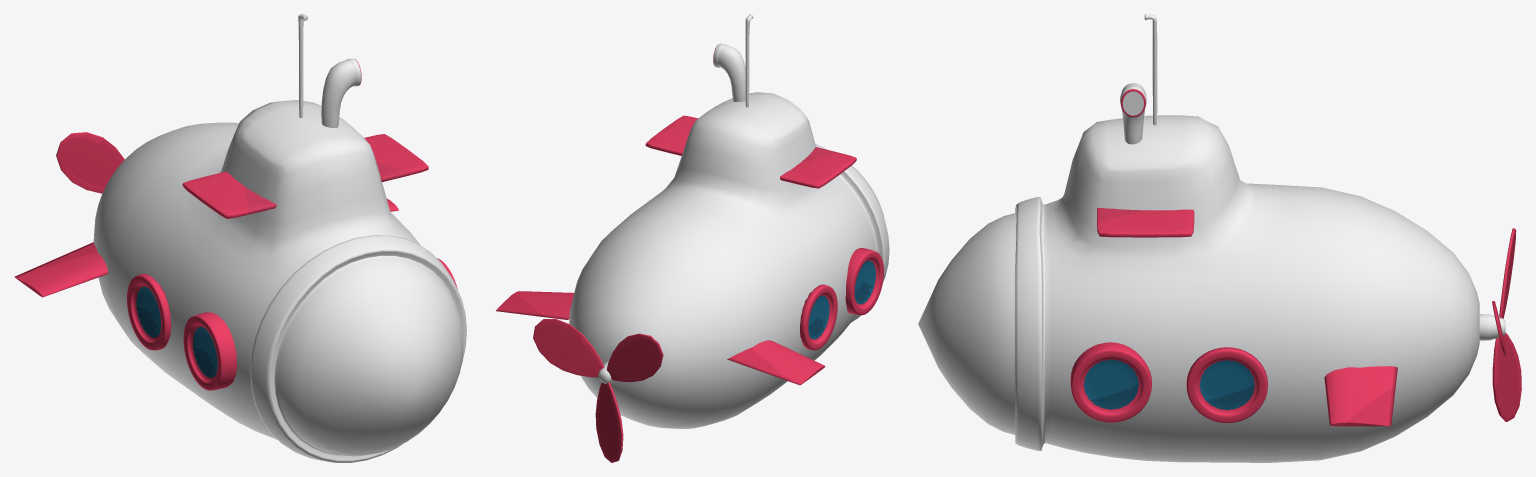
The model's file is navysubmarine@idle.fbx.
3 renders of one model, left to right at view 1: azimuth 30°, elevation 25°; view 2: azimuth 150°, elevation 25°; view 3: azimuth 270°, elevation 25°, orthographic. The views are drawn at different scales.
Visible parts, largest first — view 1: navi:tau_ngam; view 2: navi:tau_ngam; view 3: navi:tau_ngam.
Part boxes in pixels (<box>): navi:tau_ngam: <box>14,14,466,462</box>; navi:tau_ngam: <box>496,14,889,462</box>; navi:tau_ngam: <box>918,14,1521,462</box>.
Bounding box in the file's own units: 13.43 × 14.95 × 18.77.
